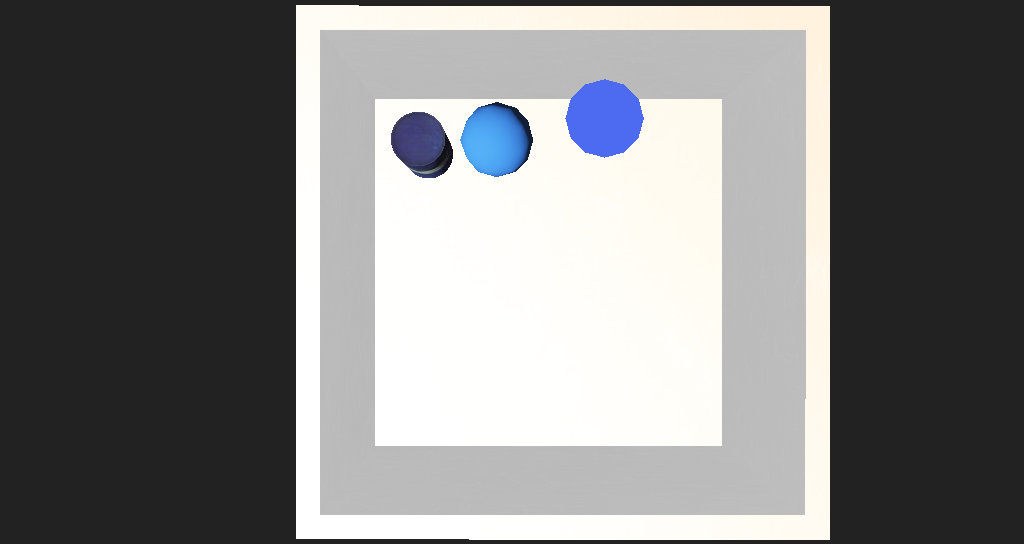cone: (367, 172, 428, 210)
cylinder: (522, 155, 583, 208)
sphere: (424, 162, 492, 210)
